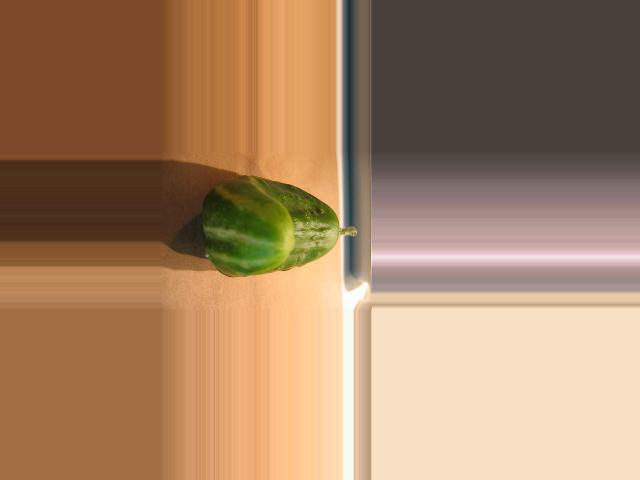cucumber: (201, 176, 357, 278)
